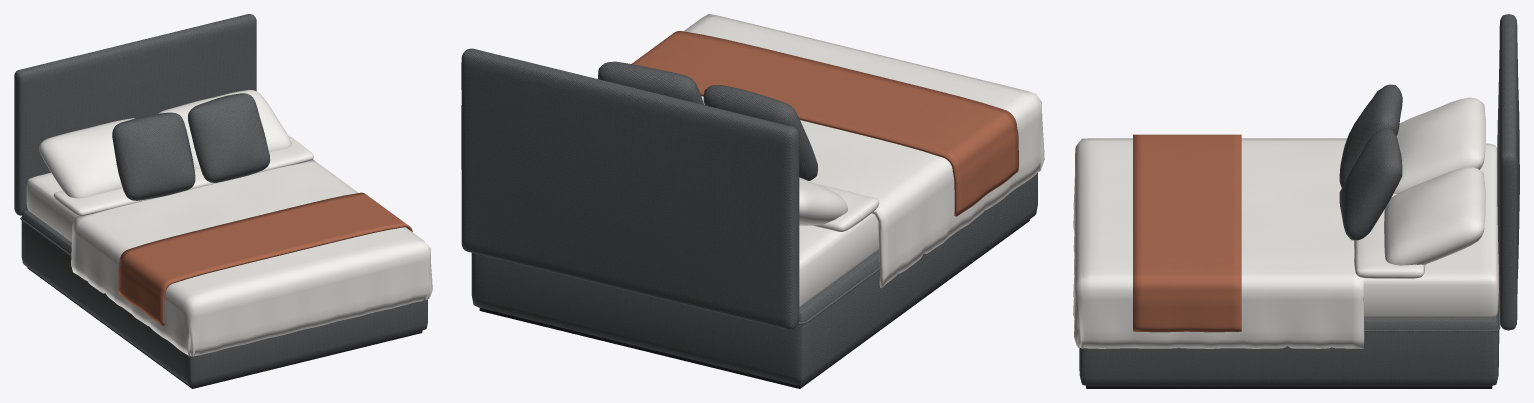
Rendered from canape_150.glb.
3 views of the same model, side by side, from view 1: azimuth 30°, elevation 25°; view 2: azimuth 150°, elevation 25°; view 3: azimuth 270°, elevation 25° (orthographic). The views are drawn at different scales.
Visible parts, largest first — view 1: canape_150; view 2: canape_150; view 3: canape_150.
Boxes of the visible parts, x1,y1,x2,y2 form: canape_150: (14, 14, 432, 388); canape_150: (461, 14, 1044, 388); canape_150: (1073, 14, 1519, 388).
Bounding box in the file's own units: 1.65 × 1.21 × 2.05.
4 materials, 3 textured.
